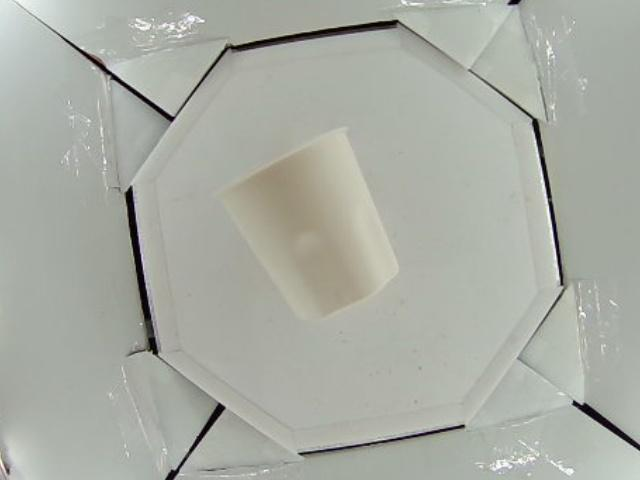Cup: (220, 126, 400, 319)
